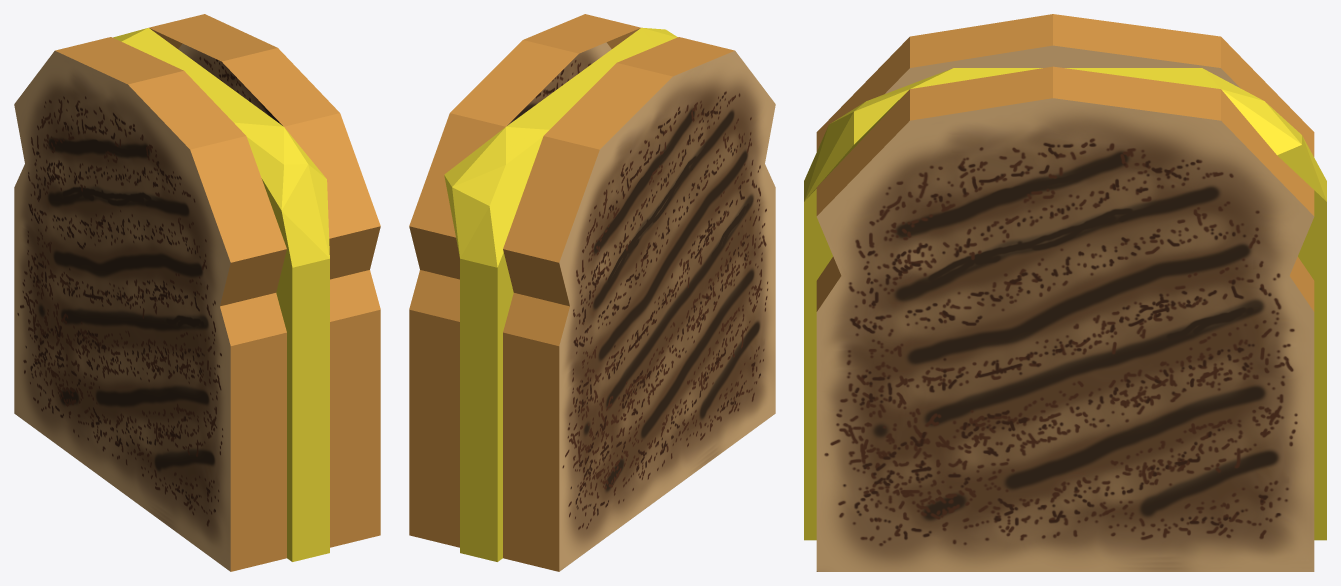
Rendered from cooked-grilledcheese.fbx.
The picture shows the model from 3 angles, left to right: view 1: azimuth 30°, elevation 25°; view 2: azimuth 150°, elevation 25°; view 3: azimuth 270°, elevation 25°; orthographic projection. The views are drawn at different scales.
Parts seen in each view (by area): view 1: Node; view 2: Node; view 3: Node.
Boxes of the visible parts, box(x1,y1,x2,y2) form: Node: box(14, 14, 380, 571); Node: box(409, 14, 775, 571); Node: box(804, 14, 1326, 571).
Size of the model in its own units: 8 by 21.52 by 21.
Materials: 3 (1 with a texture image).
